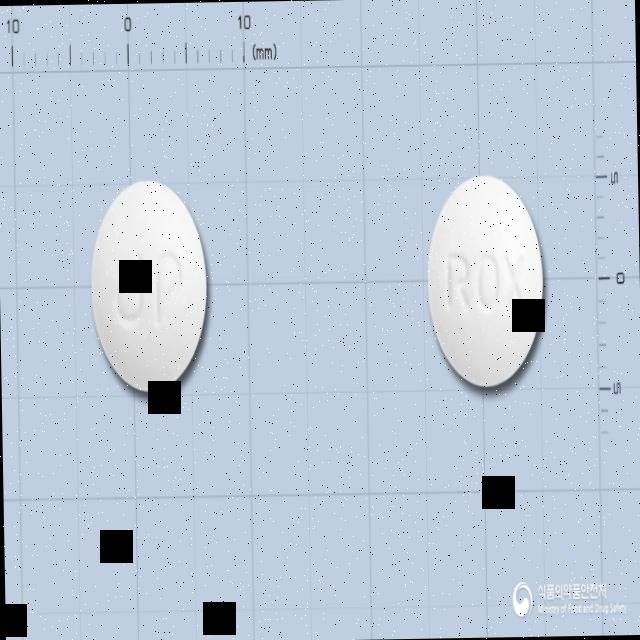Roxinmycin Tab: (424, 173, 546, 388), (89, 179, 210, 394)
